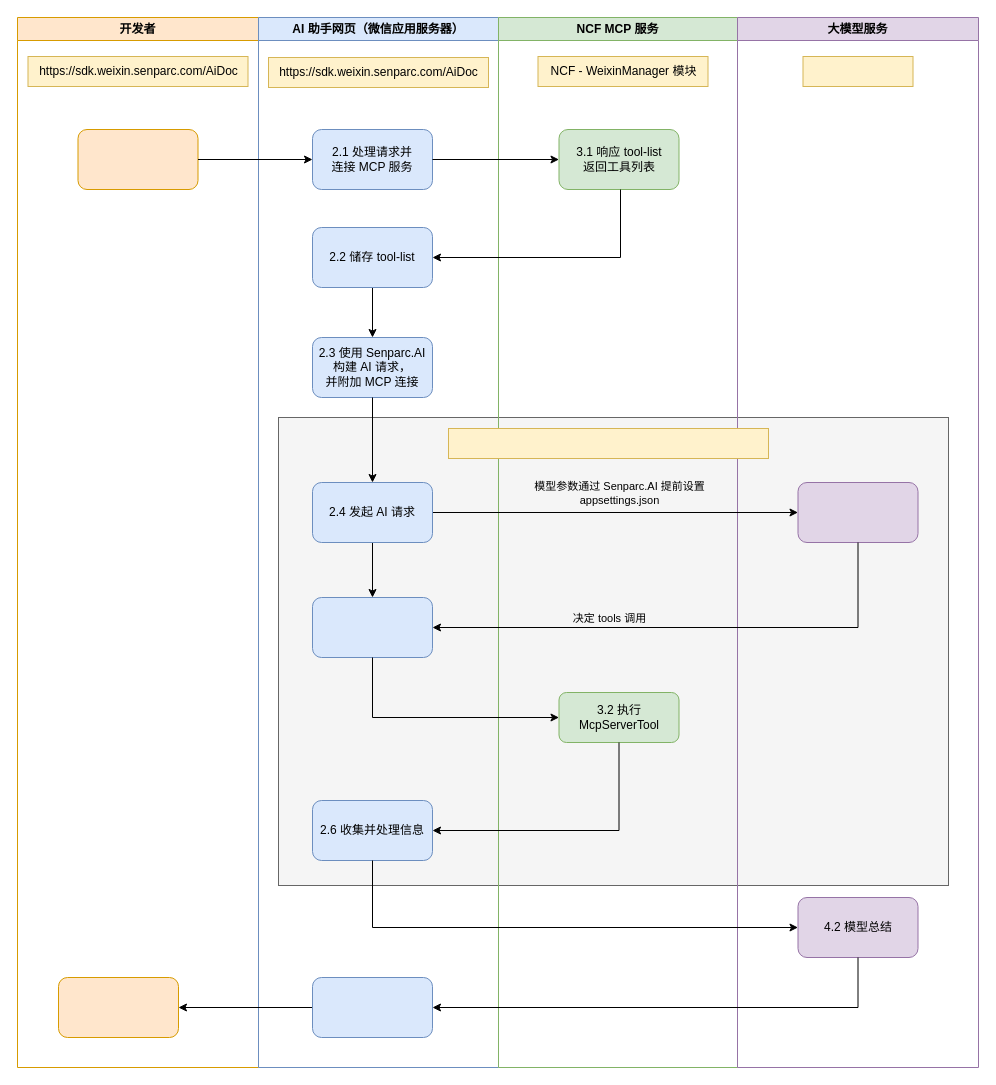
Some shapes in this 996 by 1085 pixel diagram are drawn without their labels. Here are the shapes that lost their labels. From the top down, the box of each, then its label:
(802, 56, 913, 86): Senparc.AI 对接
(77, 128, 198, 190): 1.1 发起请求
(448, 428, 768, 458): 注意这个过程会自动发生多次发生， 直到所有 tools 调用完成
(797, 482, 918, 542): 4.1 模型处理
(312, 596, 432, 658): 2.5 请求 MCP Tool
(58, 976, 178, 1038): 1.2 呈现
(312, 976, 432, 1038): 2.7 获取 AI 最终返回结果， 并处理成页面所需数据
